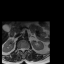CCS_normal: (22, 46, 23, 54)
LFS_normal: (26, 46, 27, 51)
LLS_normal: (23, 46, 26, 52)
RFS_normal: (18, 46, 20, 51)
RLS_normal: (20, 46, 22, 52)
